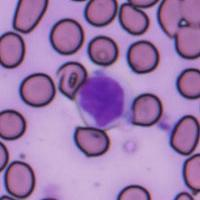L: (75, 66, 135, 130)
